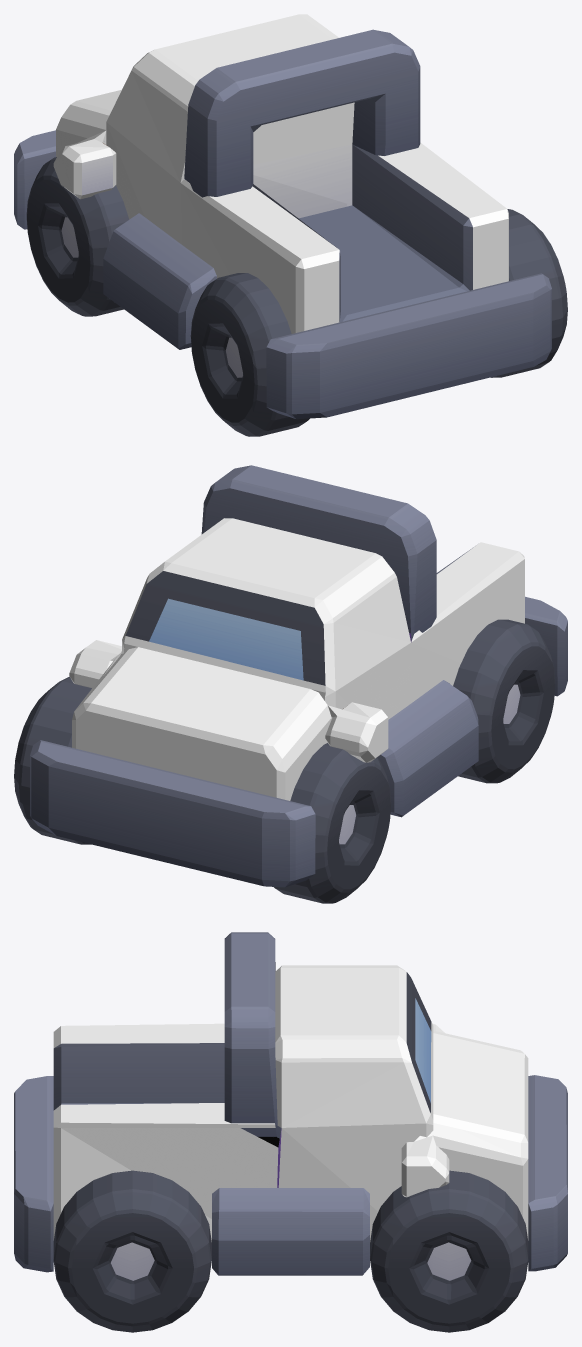
File: KitSuv.fbx
The picture shows the model from 3 angles, top to bottom: view 1: azimuth 30°, elevation 25°; view 2: azimuth 150°, elevation 25°; view 3: azimuth 270°, elevation 25°; orthographic projection. The views are drawn at different scales.
Visible parts, largest first — view 1: KitSuv_Body, Wheel_RL, Wheel_FL, Wheel_RR; view 2: KitSuv_Body, Wheel_RL, Wheel_FL, Wheel_FR; view 3: KitSuv_Body, Wheel_RR, Wheel_FR.
Part boxes in pixels (x1,y1,x2,y2): KitSuv_Body: [14, 14, 551, 419]; Wheel_RL: [190, 273, 309, 436]; Wheel_FL: [26, 157, 129, 316]; Wheel_RR: [490, 209, 567, 377]; KitSuv_Body: [30, 465, 567, 887]; Wheel_RL: [453, 619, 555, 783]; Wheel_FL: [274, 743, 391, 903]; Wheel_FR: [14, 676, 91, 844]; KitSuv_Body: [14, 932, 567, 1275]; Wheel_RR: [53, 1170, 211, 1332]; Wheel_FR: [370, 1170, 528, 1332].
Bounding box in the file's own units: 1.93 × 1.73 × 3.
